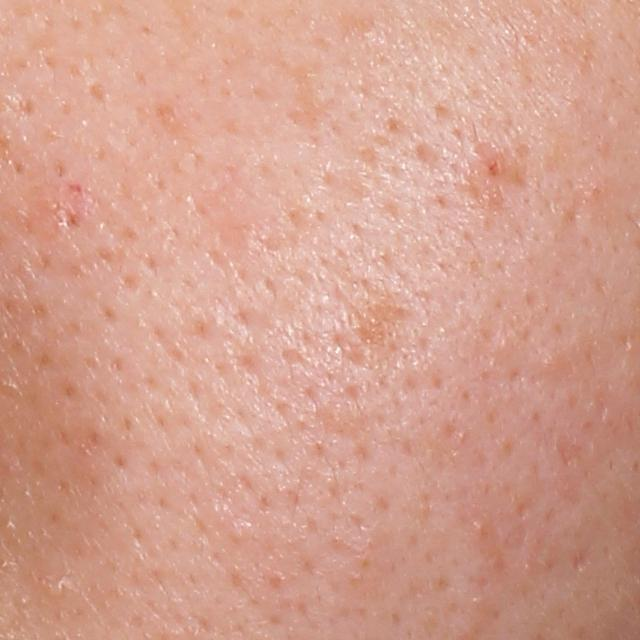comedo: (44, 575, 73, 604)
